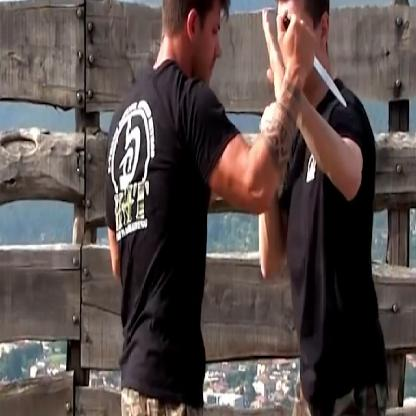knife: (276, 7, 351, 112)
